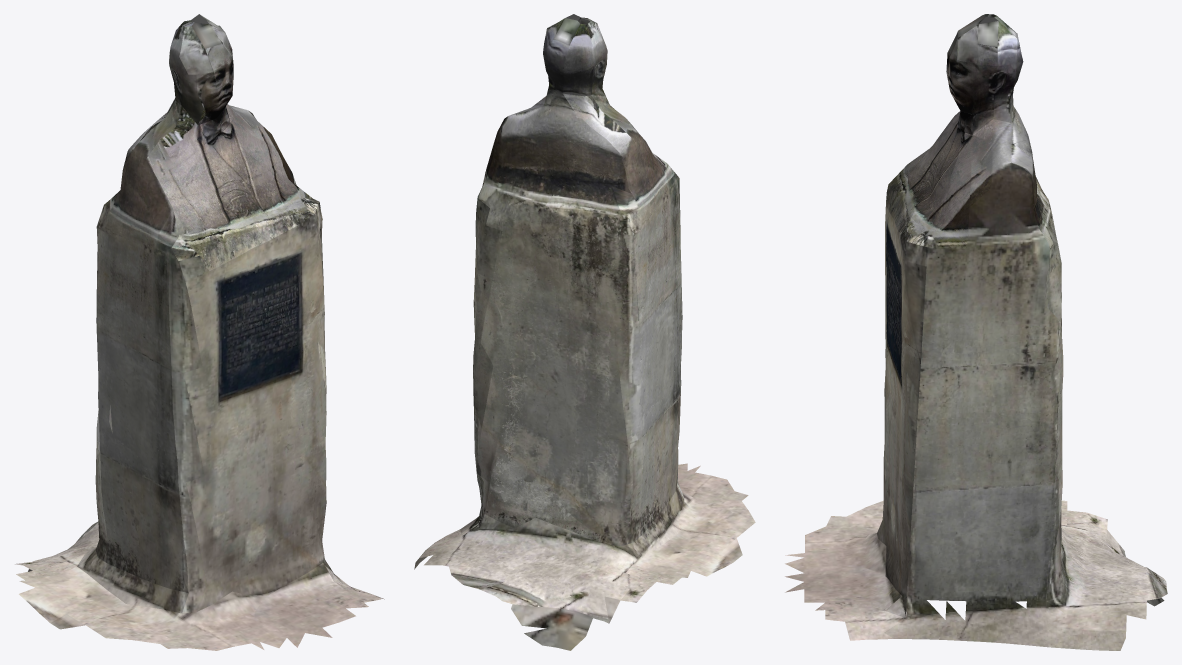
File: M06_OlayaHerrera.glb
3 renders of one model, left to right at view 1: azimuth 30°, elevation 25°; view 2: azimuth 150°, elevation 25°; view 3: azimuth 270°, elevation 25°, orthographic. The views are drawn at different scales.
Visible parts, largest first — view 1: modelo; view 2: modelo; view 3: modelo.
Boxes of the visible parts, <box> form: modelo: <box>15,14,384,650</box>; modelo: <box>414,14,755,650</box>; modelo: <box>785,14,1167,650</box>.
Bounding box in the file's own units: 0.2789 × 0.5819 × 0.3284.
1 material, 1 textured.
